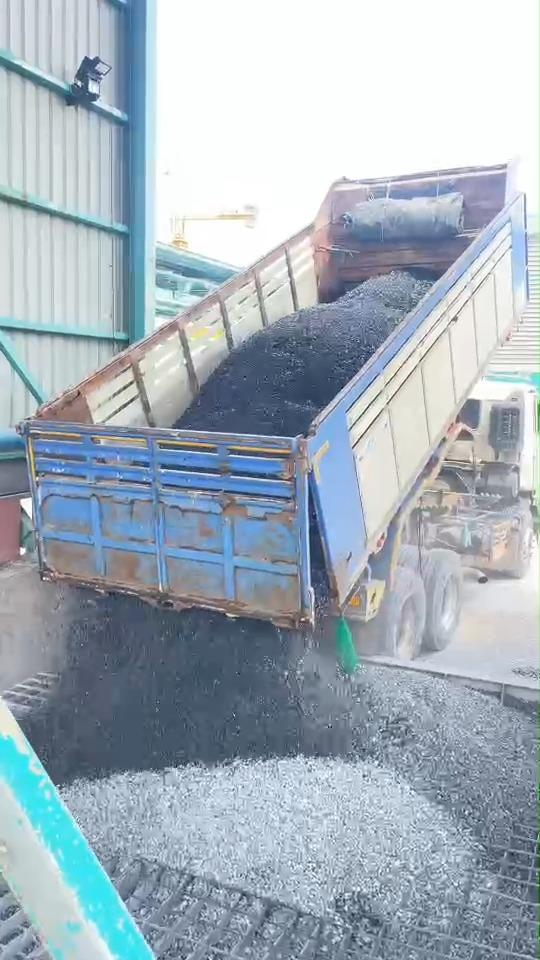gravel: (23, 597, 537, 924), (23, 597, 536, 922), (23, 597, 537, 844), (63, 757, 476, 922), (174, 271, 431, 436), (175, 271, 431, 436), (179, 274, 428, 435), (352, 665, 537, 846), (309, 501, 329, 616), (468, 907, 469, 911)
